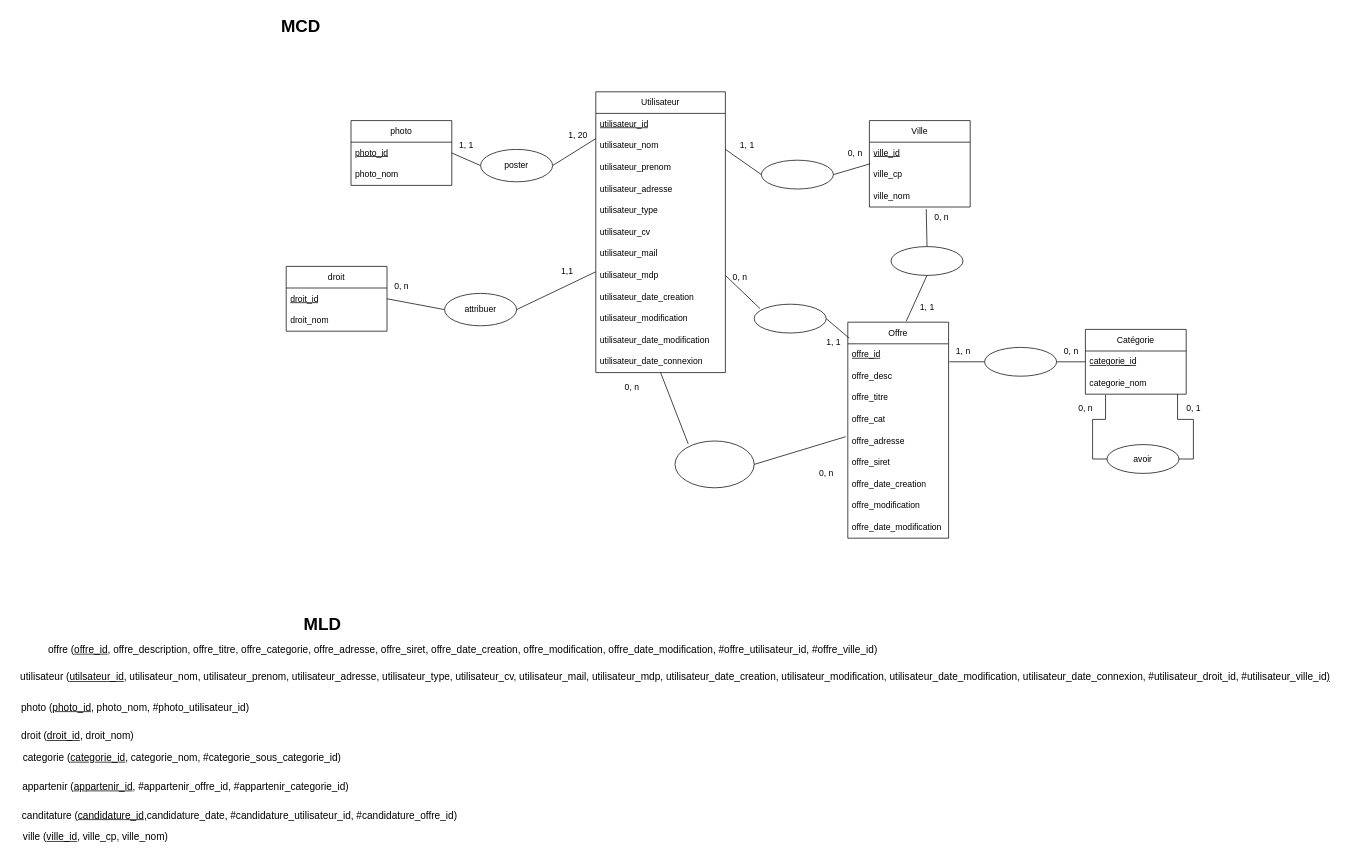
Image size: 1349x860. Some labels were removed from this diagram. The centre of each missing label's shape, as x and y in pixels:
"appartenir" belongs at pixel 1020 361.
"candidater candidature_date" belongs at pixel 714 464.
"contenir" belongs at pixel 926 260.
"déposer" belongs at pixel 789 318.
"habiter" belongs at pixel 797 174.
